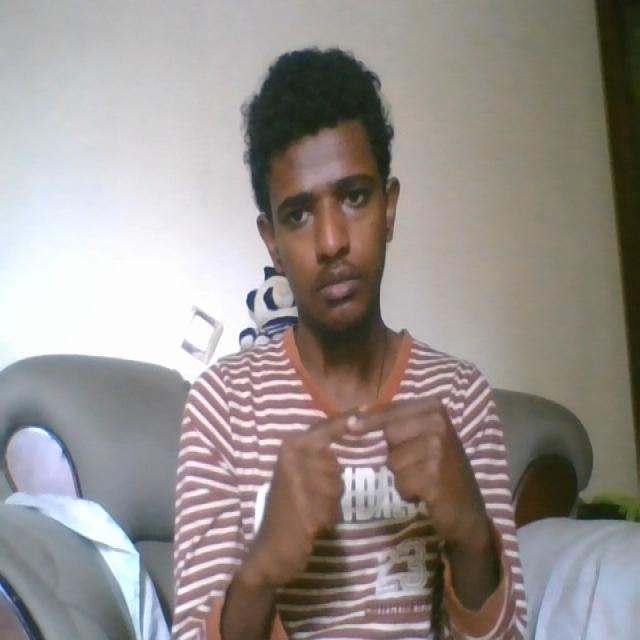eske: (270, 392, 457, 545)
